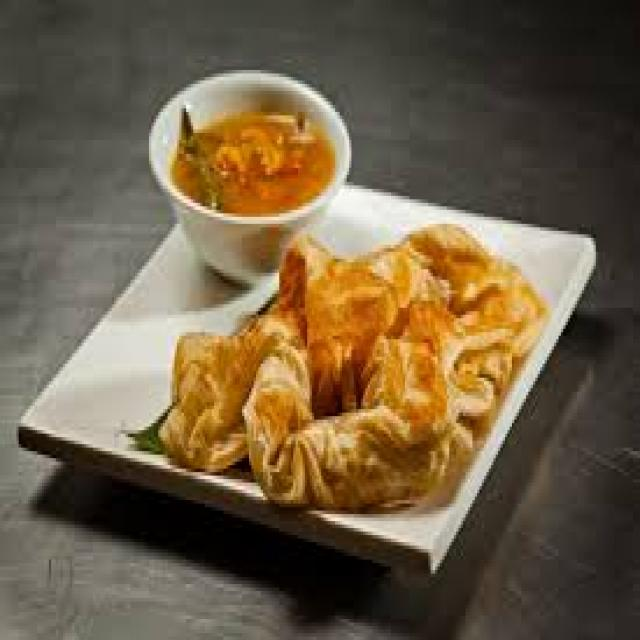Paratha: (160, 231, 551, 491)
